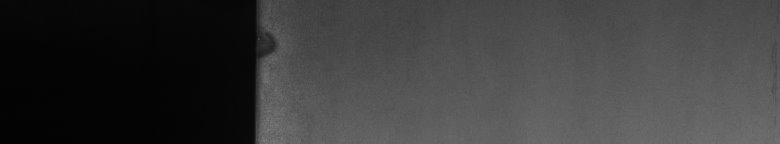hb: (268, 15, 288, 71)
